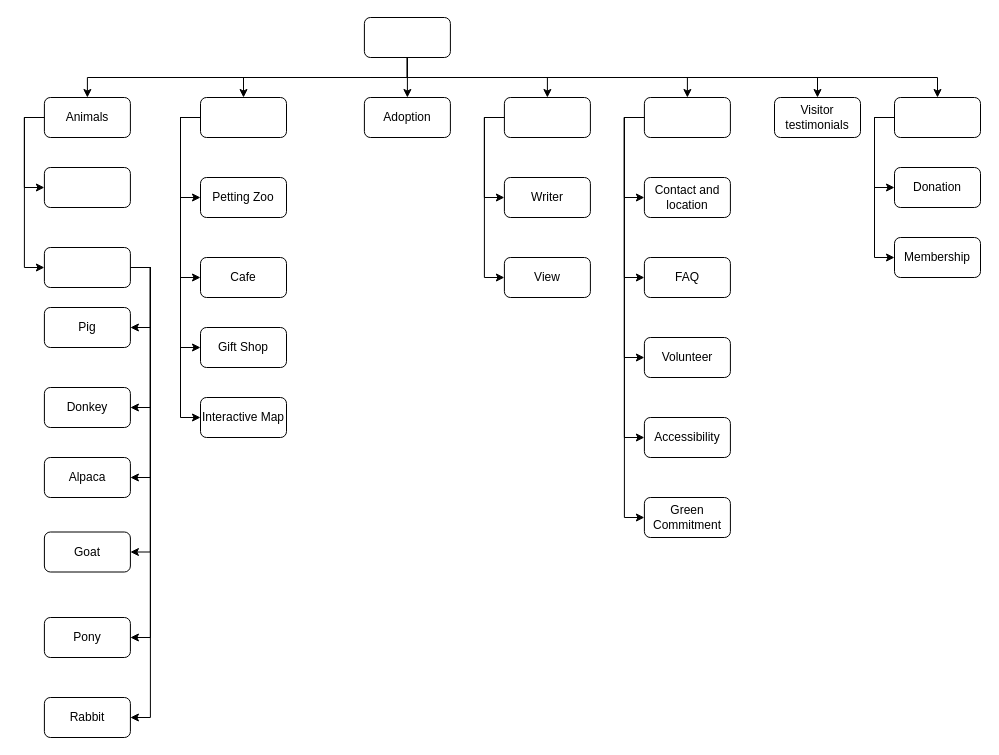
This 999x755 diagram has some shape labels left out. Here are the shapes that lost their labels. From the top down, the centre of each, then its label:
the point at 406,37: Home
the point at 243,117: Facilities
the point at 546,117: Blog
the point at 686,117: Information
the point at 937,117: Support Us
the point at 86,187: Rescue Pups
the point at 86,267: Our Furry friends
